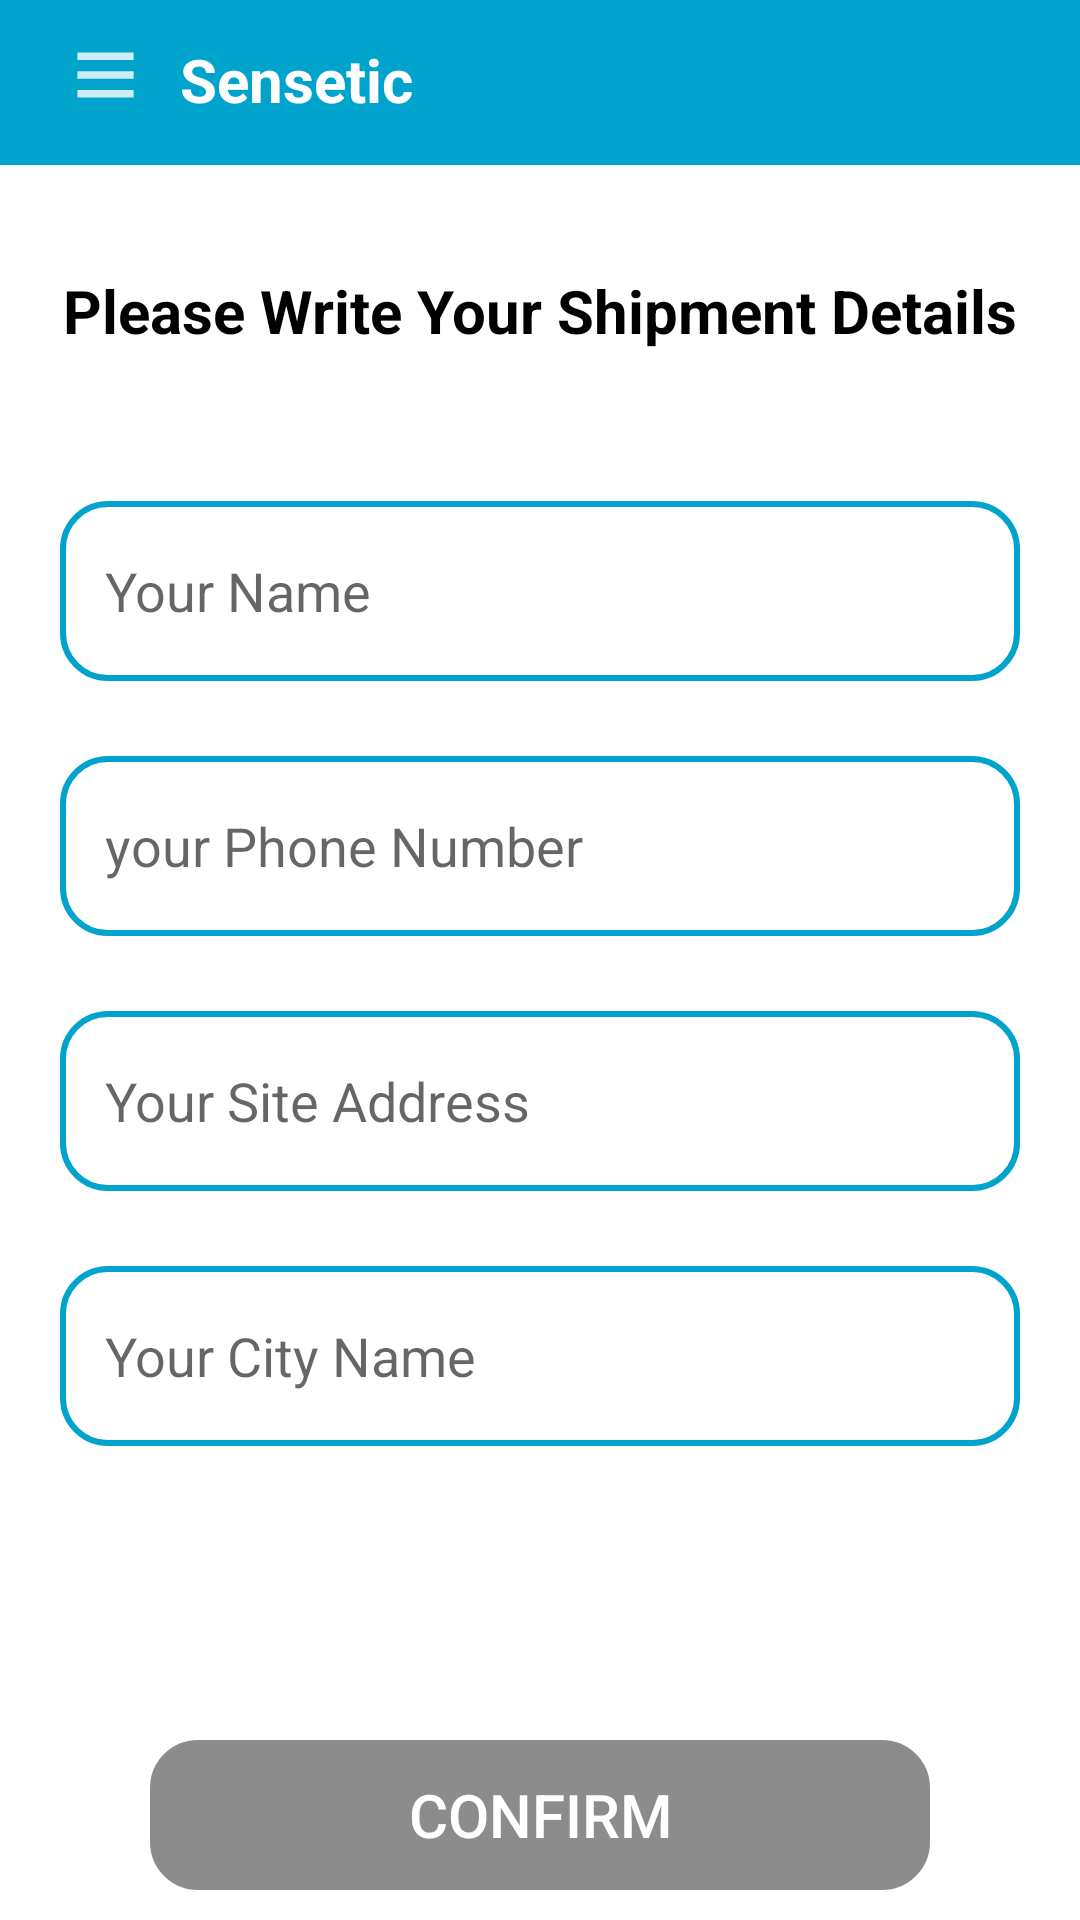

Named icons in this screenshot (1080 x 1920) and their centers, (x=x, y=y):
menu: (x=105, y=75)
